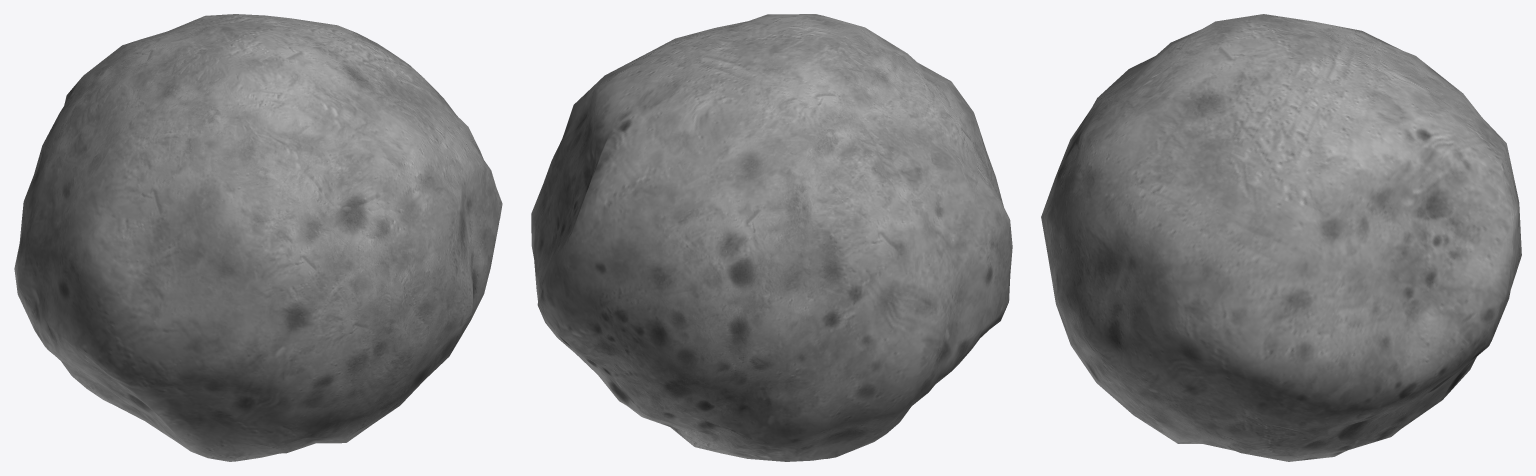
Rendered from phoebe.gltf.
The picture shows the model from 3 angles, left to right: view 1: azimuth 30°, elevation 25°; view 2: azimuth 150°, elevation 25°; view 3: azimuth 270°, elevation 25°; orthographic projection.
Parts seen in each view (by area): view 1: Phoebe; view 2: Phoebe; view 3: Phoebe.
Boxes of the visible parts, x1,y1,x2,y2 form: Phoebe: [14, 14, 502, 461]; Phoebe: [531, 14, 1012, 461]; Phoebe: [1041, 14, 1521, 461].
Size of the model in its own units: 216286 by 195749 by 211574.
Materials: 1 (1 with a texture image).
